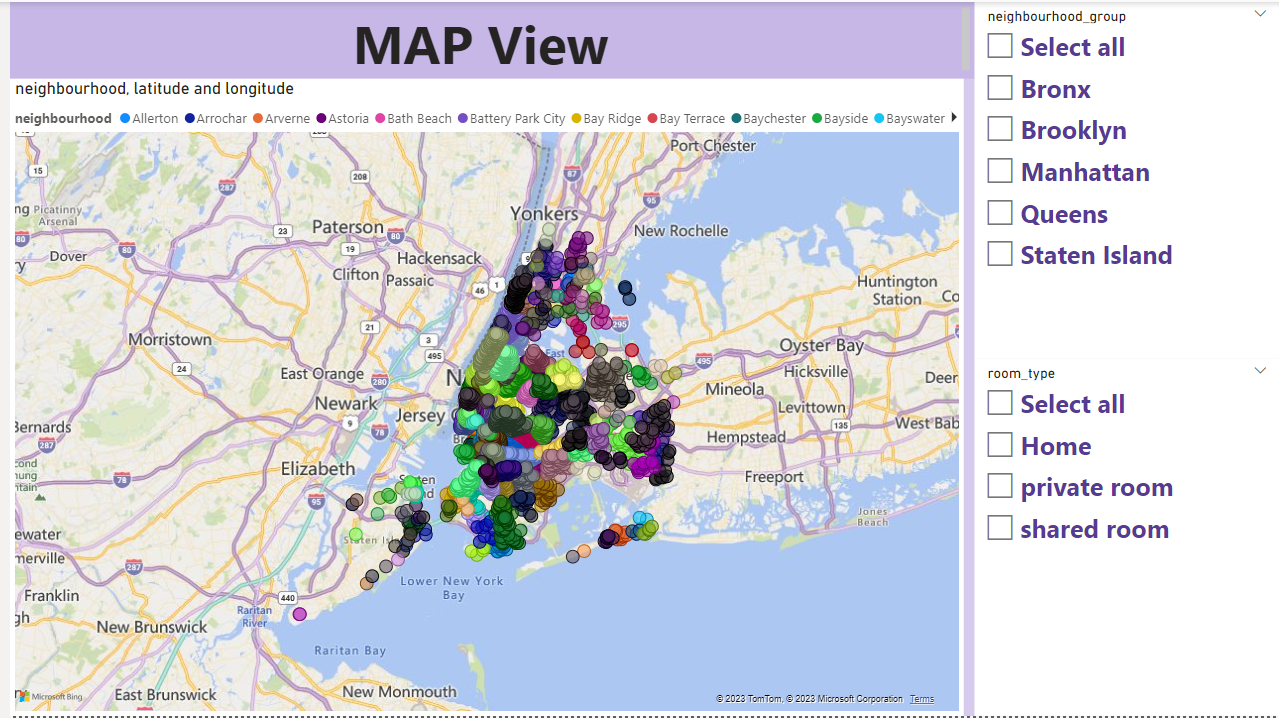

What the dashboard file says about the page in this screenshot:
{"tool":"powerbi","page":{"name":"Map","canvas":[1280,720],"ordinal":2},"visuals":[{"type":"map","fields":{"Y":["airbnb.latitude"],"X":["airbnb.longitude"],"Series":["airbnb.neighbourhood"]},"box":[0,77.2,962.3,643],"z":0},{"type":"slicer","fields":{"Values":["airbnb.neighbourhood_group"]},"box":[972.9,0,307.1,360.1],"z":1000},{"type":"slicer","fields":{"Values":["airbnb.room_type"]},"box":[972.9,360.1,307.1,360.1],"z":2000},{"type":"textbox","box":[0,0,972.9,77.2],"z":3000}]}

Visuals, with their boxes in screenshot pixels (x1, y1, x2, y2), scaled from the page's 1280x720 canvas onto the 1279x720 screenshot:
map - airbnb.latitude x airbnb.longitude: {"left": 0, "top": 77, "right": 962, "bottom": 719}
slicer - airbnb.neighbourhood_group: {"left": 972, "top": 0, "right": 1278, "bottom": 360}
slicer - airbnb.room_type: {"left": 972, "top": 360, "right": 1278, "bottom": 719}
textbox: {"left": 0, "top": 0, "right": 972, "bottom": 77}
